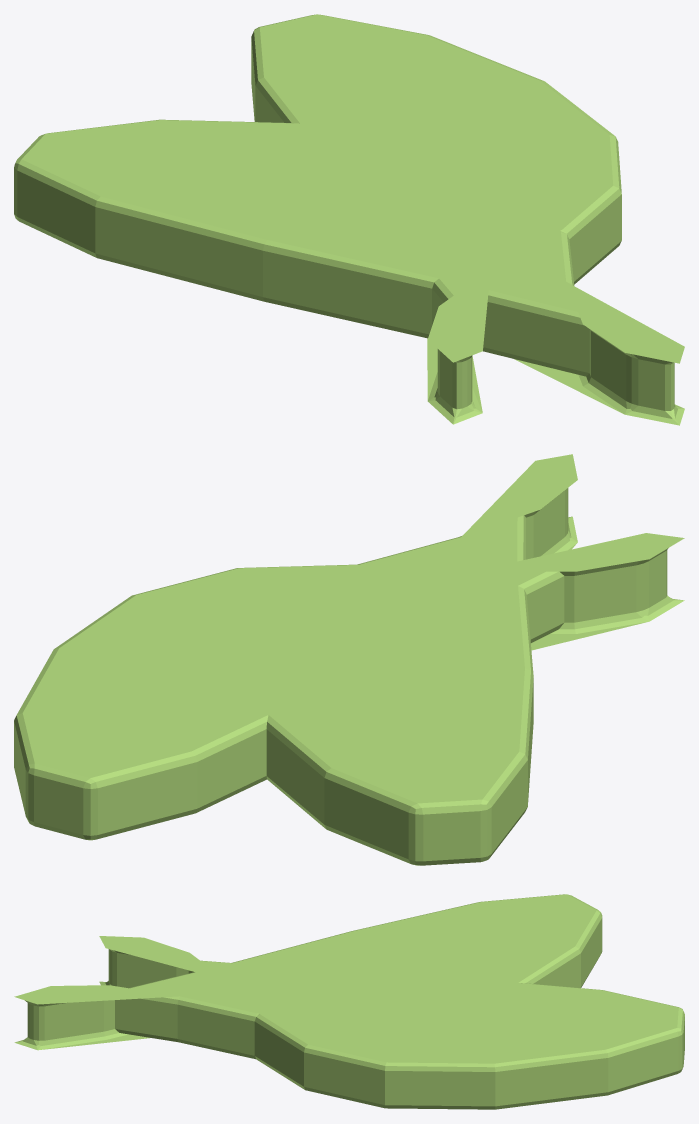
File: SM_UI_LeafPair.fbx
3 renders of one model, top to bottom at view 1: azimuth 30°, elevation 25°; view 2: azimuth 150°, elevation 25°; view 3: azimuth 270°, elevation 25°, orthographic. The views are drawn at different scales.
Visible parts, largest first — view 1: SM_UI_LeafPair; view 2: SM_UI_LeafPair; view 3: SM_UI_LeafPair.
Boxes of the visible parts, x1,y1,x2,y2 form: SM_UI_LeafPair: (14,14,684,425); SM_UI_LeafPair: (14,454,684,865); SM_UI_LeafPair: (14,894,684,1109).
Bounding box in the file's own units: 0.9804 × 0.12 × 1.59.
